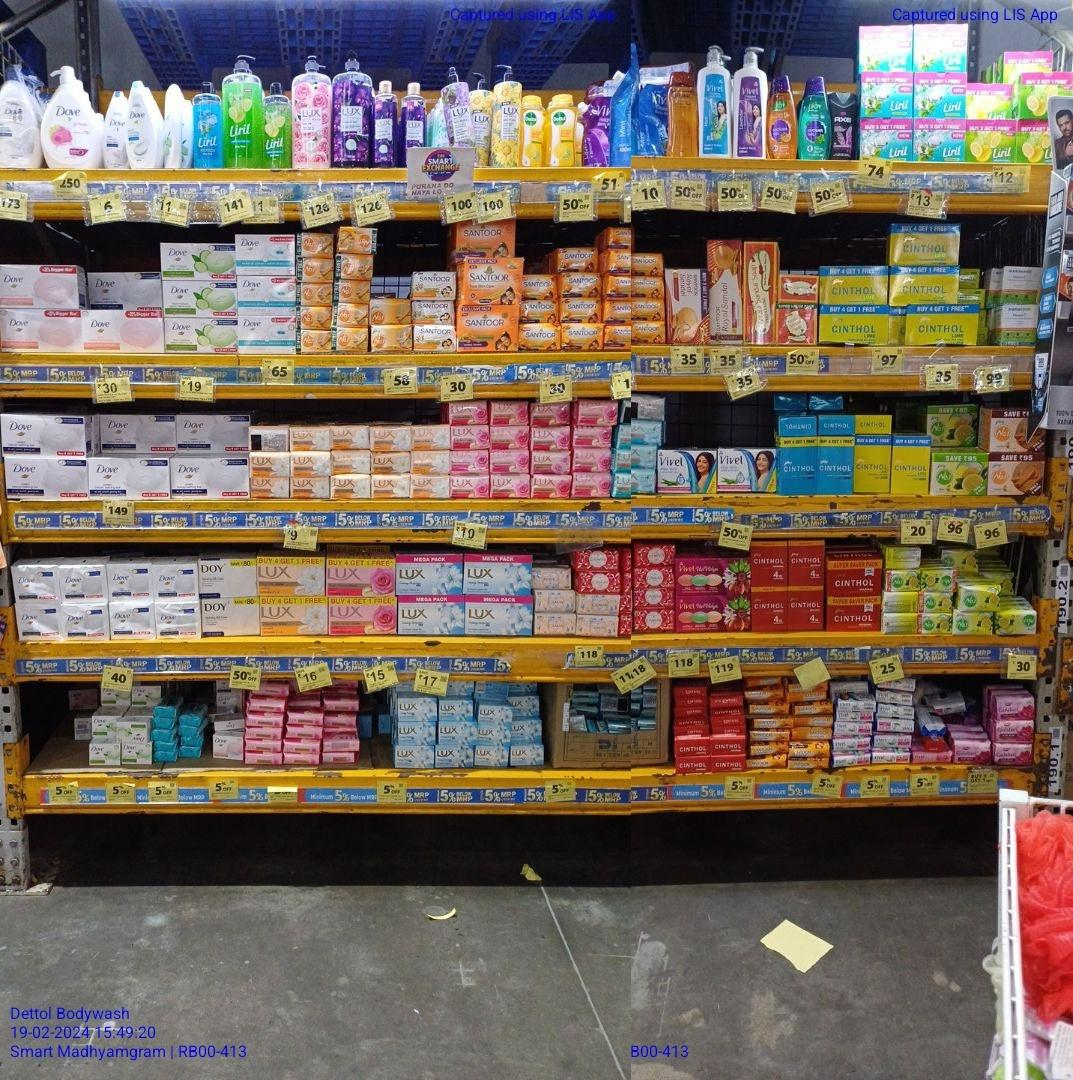Dettol_Bodywash_Refresh: (547, 92, 576, 167), (521, 92, 545, 168)
Dove_Gentle_Exfoliating_Body_Wash_250ML: (126, 81, 156, 167)
Get_Real_Shower_Gel_Moisturising_Glycerin_300ML: (667, 67, 697, 158)
Joy_Shower_Gel_Mandarin_and_Lemongrass_250ML: (767, 73, 797, 157)
Joy_Shower_Gel_Mint_and_Eucalyptus_250ML: (800, 73, 831, 158)
Liril_Cooling_Mint_Body_Wash_250ML: (191, 79, 221, 170)
Lux_Black_Orchid_Scent_and_Juniper_Oil_Body_Wash_245ML: (371, 79, 400, 167), (403, 81, 427, 148)
